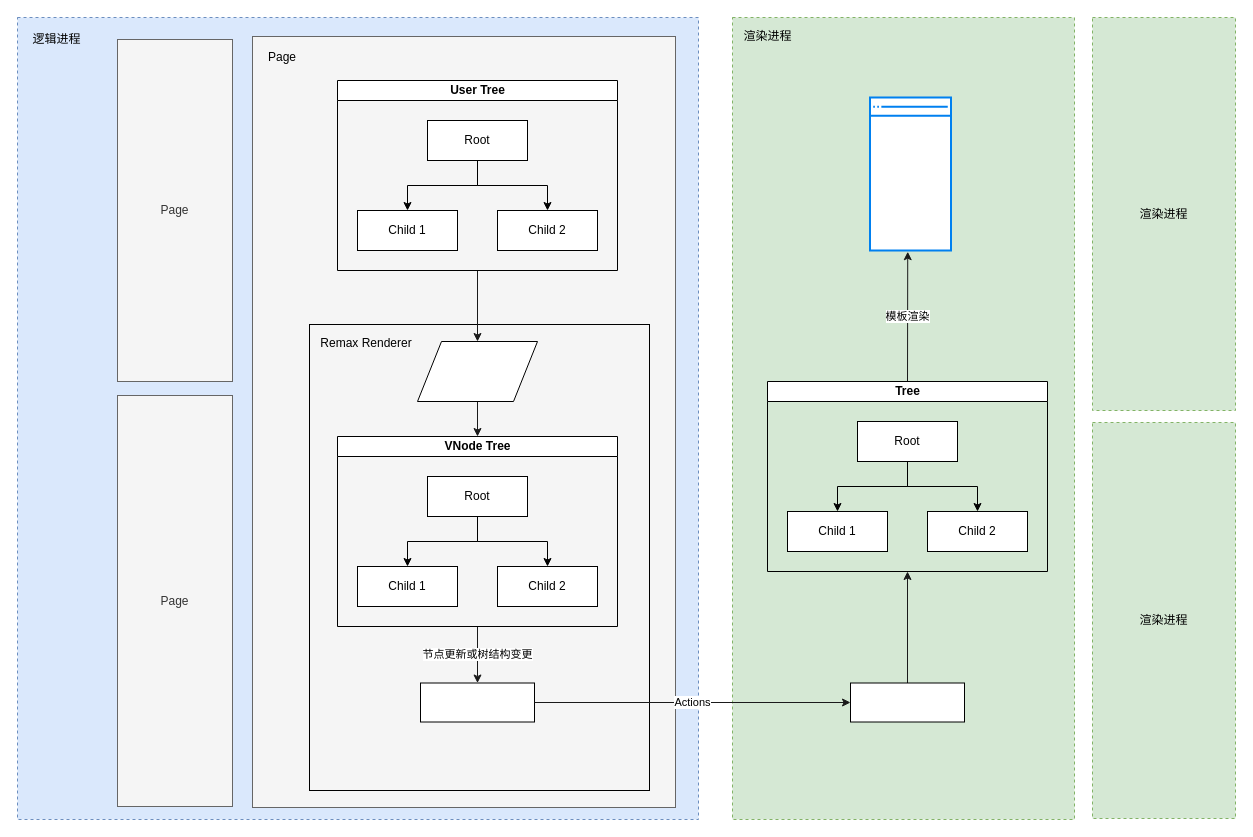
Image size: 1253x837. Some labels were removed from this diagram. The shapes that lost their labels are listed below. From the top down, each one's centre as x and y in pixels, then its label:
the point at 477,371: Reconciler
the point at 477,702: 推入更新队列
the point at 907,702: 更新树架构
